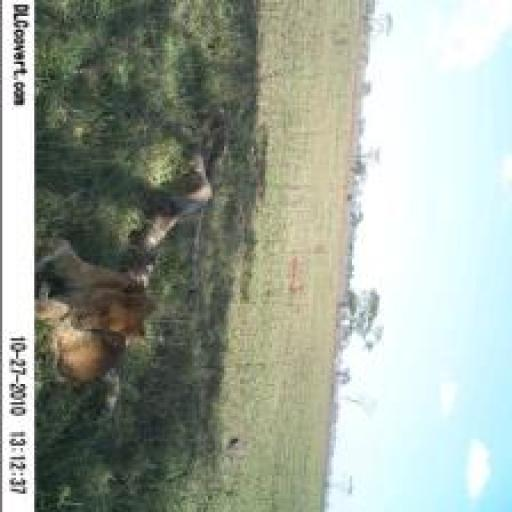lion: (32, 229, 160, 401)
